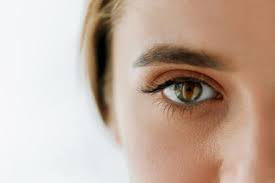pupil: (173, 79, 201, 102)
